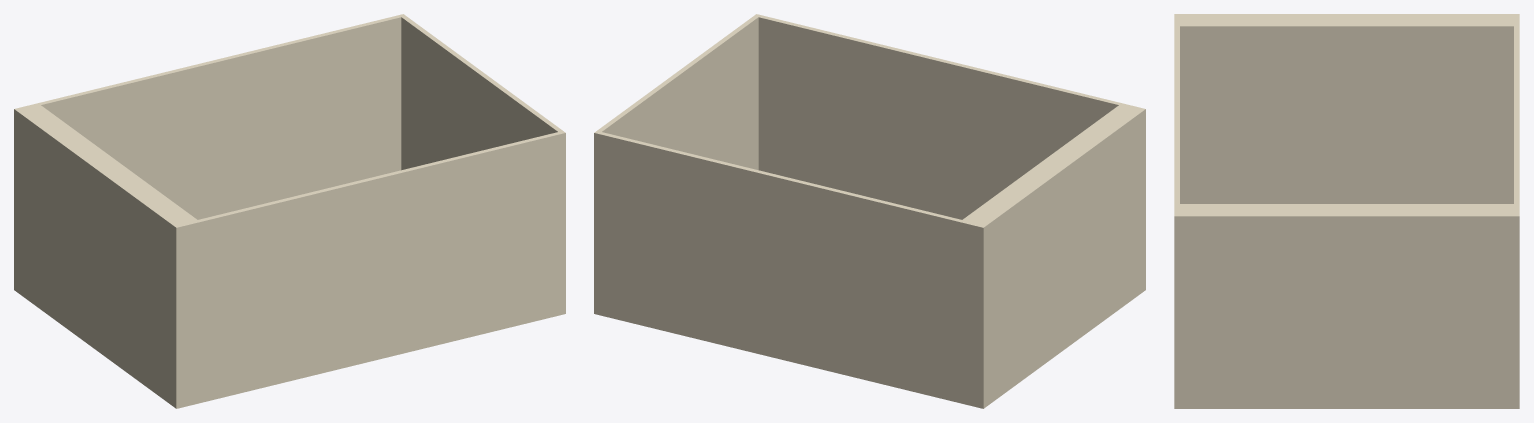
The model's file is PartsBin.fbx.
3 renders of one model, left to right at view 1: azimuth 30°, elevation 25°; view 2: azimuth 150°, elevation 25°; view 3: azimuth 270°, elevation 25°, orthographic. The views are drawn at different scales.
Visible parts, largest first — view 1: D113316B; view 2: D113316B; view 3: D113316B.
Part boxes in pixels (bbox=[...]): D113316B: bbox=[14, 14, 565, 408]; D113316B: bbox=[594, 14, 1145, 408]; D113316B: bbox=[1174, 14, 1519, 408].
Size of the model in its own units: 16.2 by 7.2 by 11.7.
